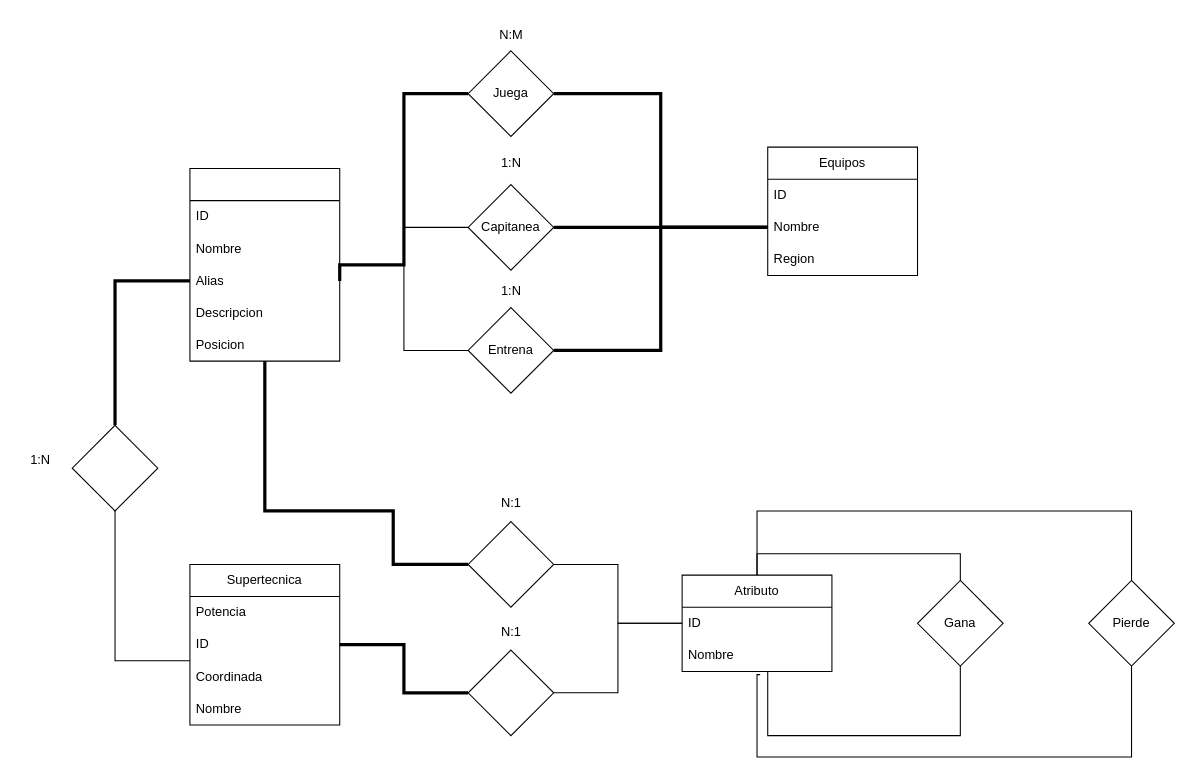
Some shapes in this 1193 by 777 pixel diagram are drawn without their labels. The box of each missing label's shape, as (x1, y1, x2, y2) in pixels:
Caracteriza: (71, 424, 158, 511)
Connleva: (467, 649, 554, 736)
Personaje: (189, 167, 340, 361)
Pertenece: (467, 521, 554, 607)
